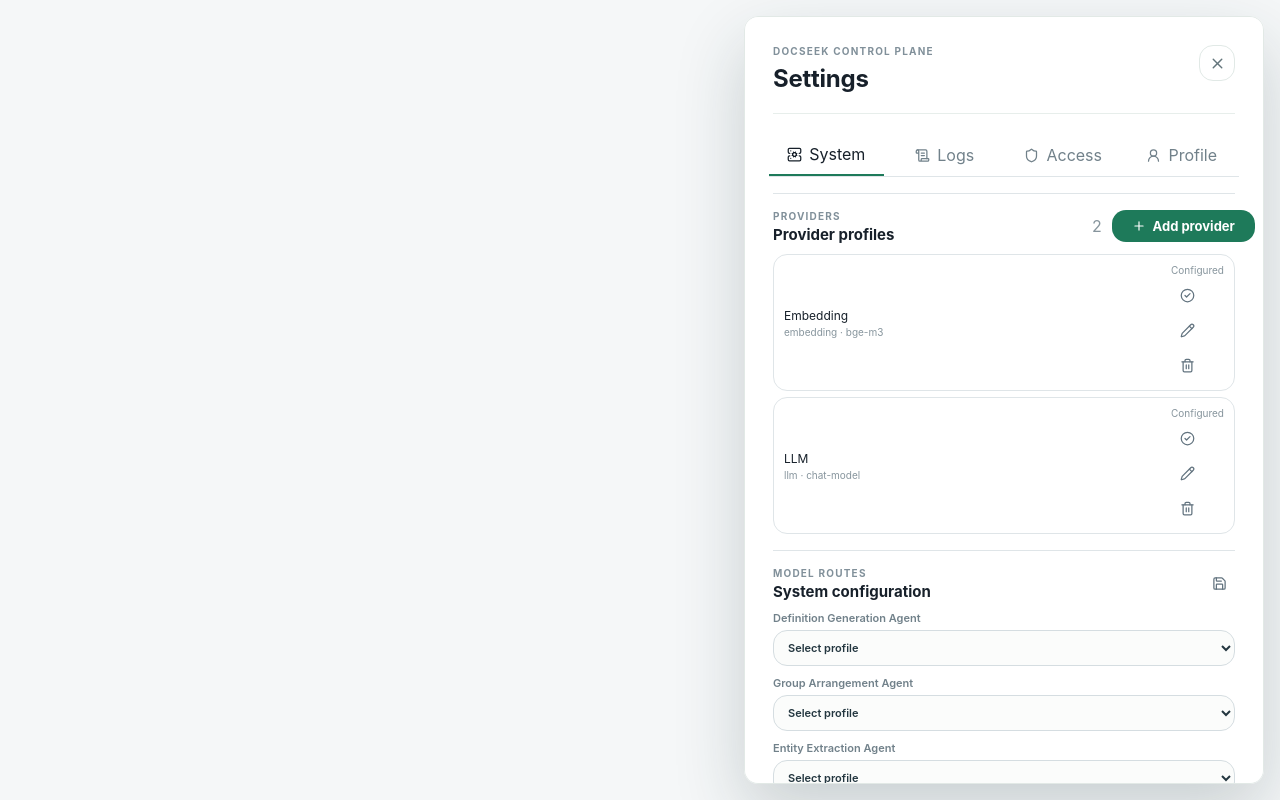
SettingsPanel › loads LLM invocation details only when the logs tab is opened
expect the dialog "Settings" is shown: met, box [744,16,1264,784]
Click the button "Logs". click: (945, 155)
box: [888,134,1002,176]
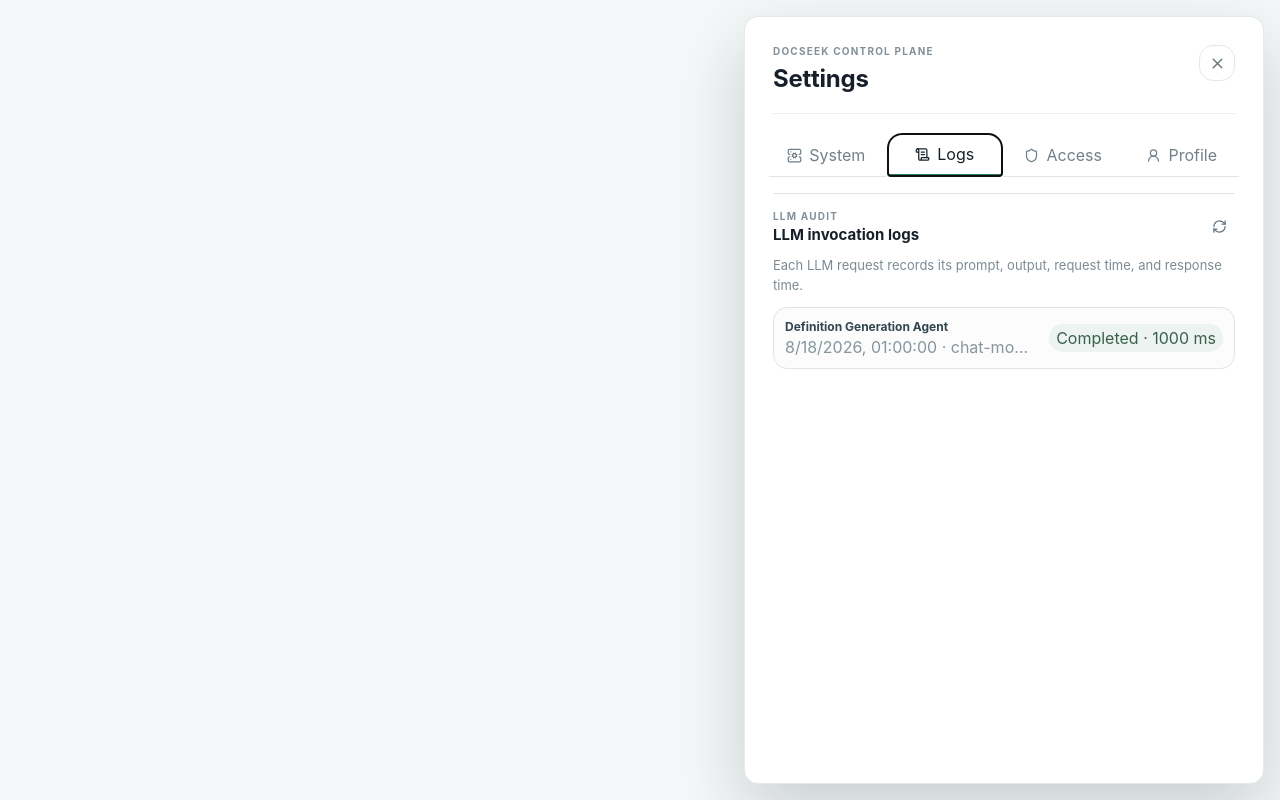
expect the text "Completed · 1000 ms" is shown: met, box [1049,324,1223,352]
Click the text "Definition Generation Agent". click: (866, 326)
box: [785,319,948,334]
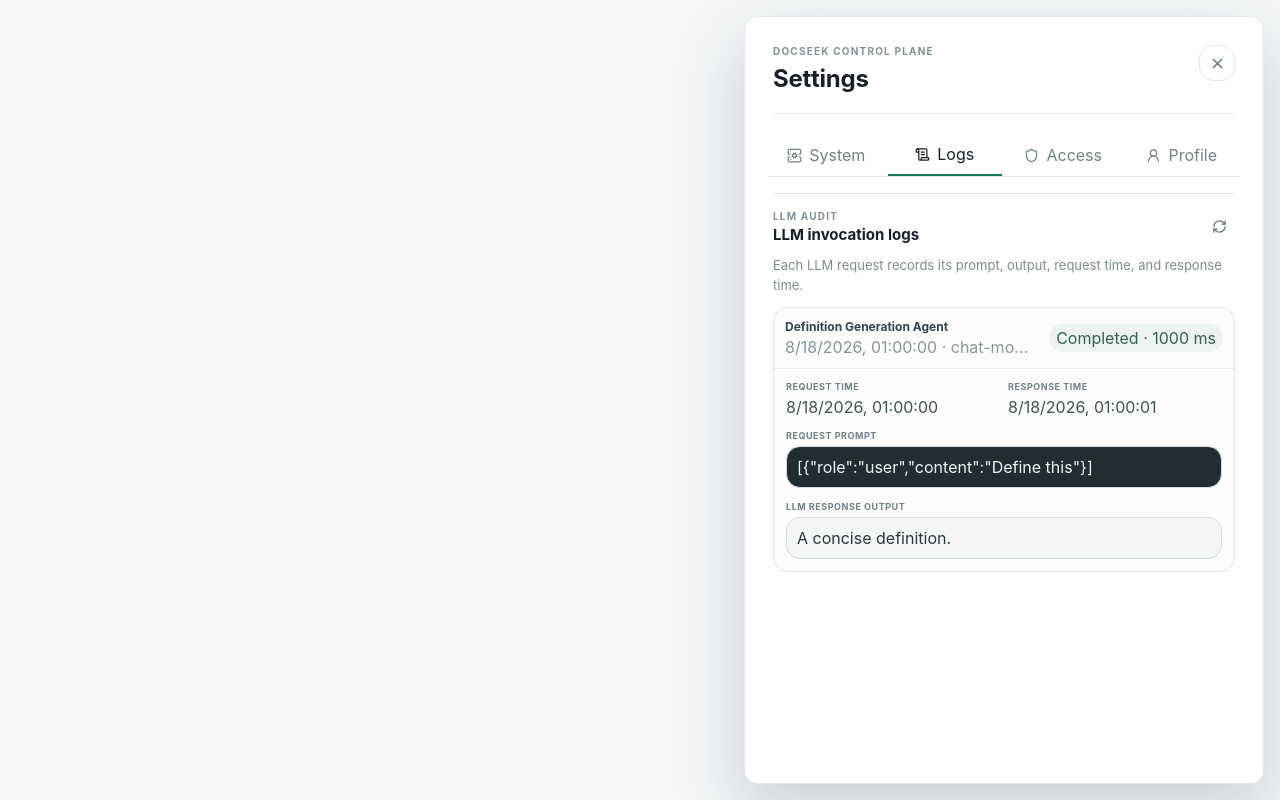
expect the text "A concise definition." is shown: met, box [786,517,1222,559]
